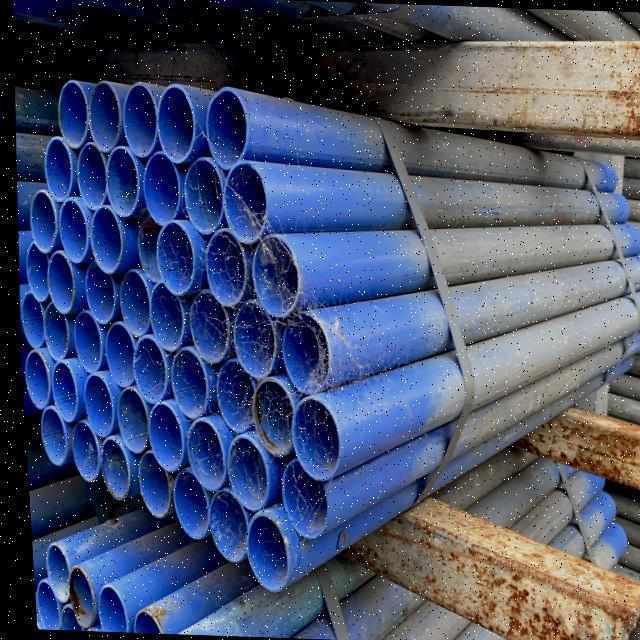pipe: (285, 389, 336, 480), (244, 233, 297, 319), (149, 80, 202, 163), (272, 453, 321, 536), (201, 84, 246, 170), (226, 295, 272, 377), (217, 159, 262, 241), (218, 432, 267, 507), (197, 477, 239, 563), (200, 223, 245, 303), (238, 511, 283, 587), (243, 374, 286, 453), (278, 313, 325, 385), (139, 148, 182, 226), (178, 155, 221, 232), (149, 213, 193, 288), (182, 287, 223, 365), (210, 353, 250, 429), (163, 455, 199, 538), (178, 414, 218, 488), (79, 245, 116, 323), (118, 79, 154, 158), (163, 344, 203, 414), (41, 226, 73, 313), (140, 397, 178, 469), (125, 332, 164, 402), (144, 276, 180, 348), (132, 442, 166, 518), (85, 200, 121, 270), (70, 136, 103, 208), (102, 142, 134, 215), (54, 78, 87, 146), (108, 383, 139, 455), (75, 368, 110, 431), (41, 134, 74, 199), (93, 432, 127, 495), (85, 76, 115, 147), (115, 265, 145, 333), (45, 358, 77, 421), (63, 416, 94, 479), (53, 195, 83, 260), (100, 318, 129, 384), (68, 304, 99, 365), (38, 537, 65, 600), (35, 403, 63, 462), (59, 561, 87, 620), (22, 338, 45, 407), (38, 297, 65, 355), (133, 209, 156, 274), (22, 238, 45, 300), (26, 188, 49, 249), (90, 584, 117, 628), (29, 577, 50, 620), (21, 291, 38, 341), (127, 613, 148, 633)
